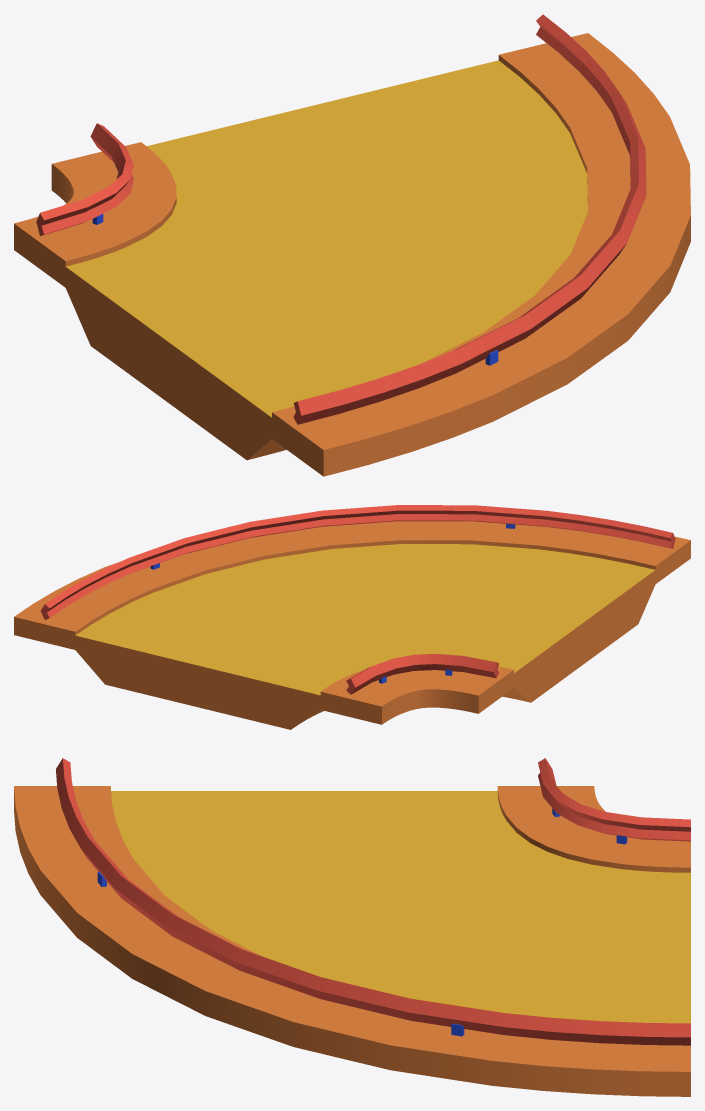
File: BridgeLeftCurveSmallFBX.fbx
3 renders of one model, top to bottom at view 1: azimuth 30°, elevation 25°; view 2: azimuth 150°, elevation 25°; view 3: azimuth 270°, elevation 25°, orthographic. The views are drawn at different scales.
Visible parts, largest first — view 1: BridgeLeftCurveSmall; view 2: BridgeLeftCurveSmall; view 3: BridgeLeftCurveSmall.
Part boxes in pixels (bbox=[...]): BridgeLeftCurveSmall: bbox=[14, 14, 690, 476]; BridgeLeftCurveSmall: bbox=[14, 505, 690, 729]; BridgeLeftCurveSmall: bbox=[14, 758, 690, 1096].
Bounding box in the file's own units: 87.5 × 12.86 × 87.5.
